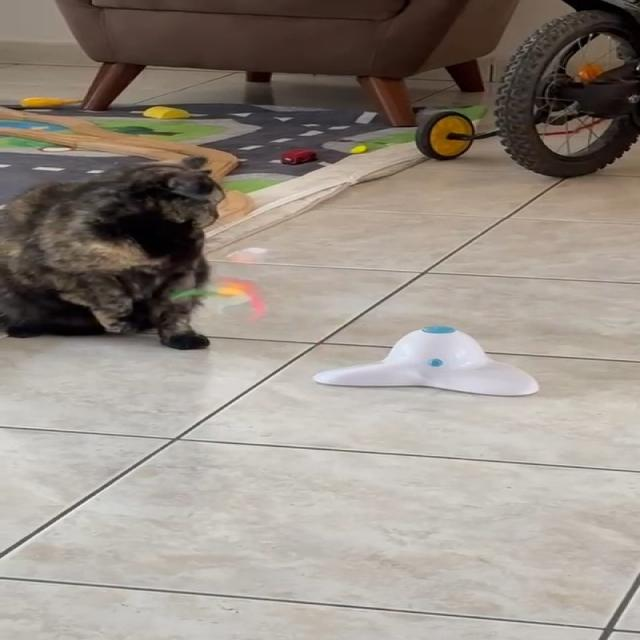authorized: (0, 155, 224, 350)
